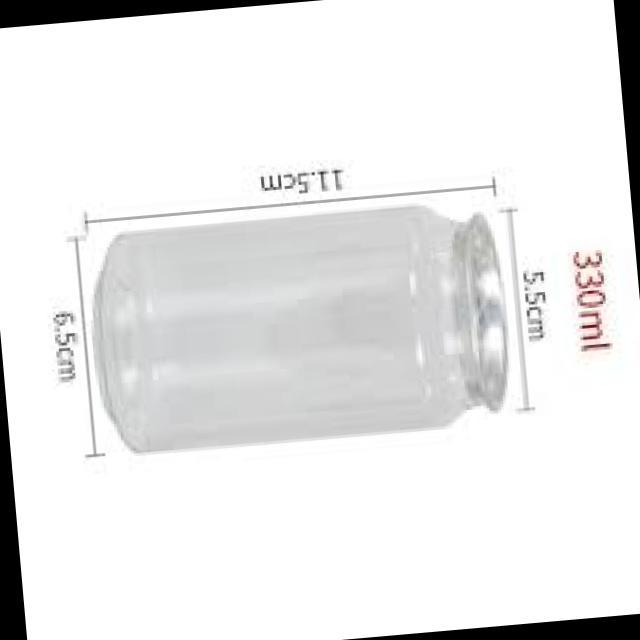good: (79, 172, 548, 472)
